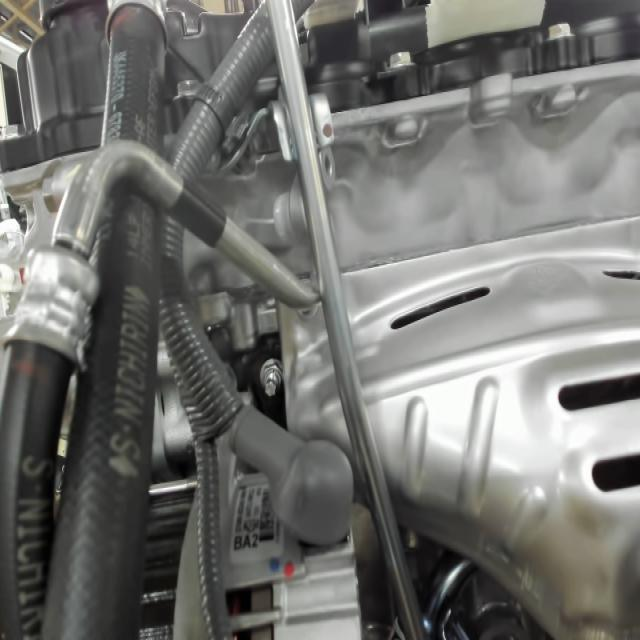Alternator-BA2: (227, 523, 279, 560)
Hose Discharge-HT: (164, 173, 237, 259)
